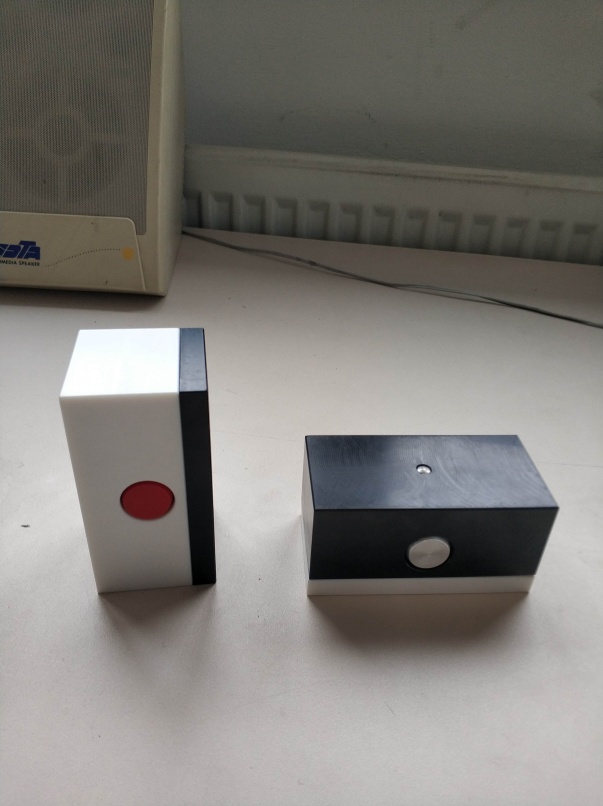black+white+red: (57, 323, 218, 591)
white+black+silver: (299, 432, 560, 597)
